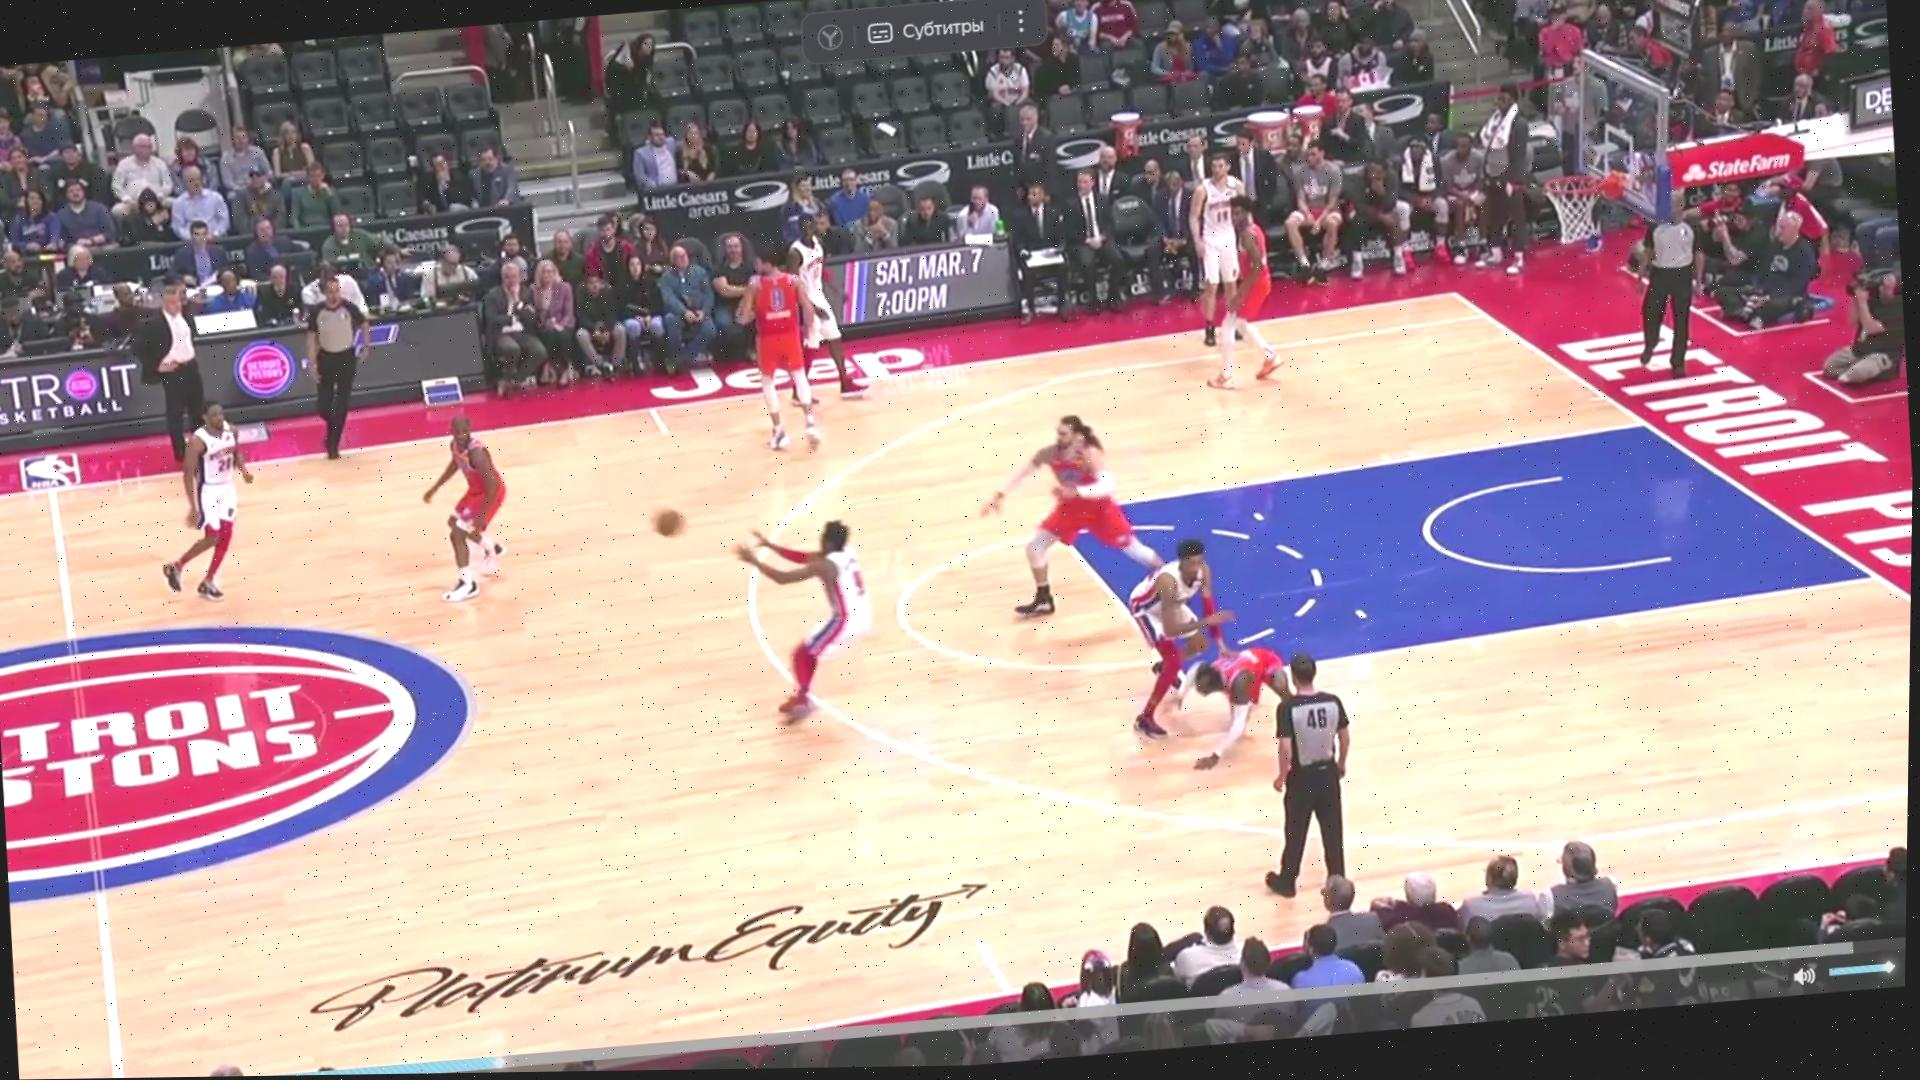foul: (1102, 513, 1327, 790)
